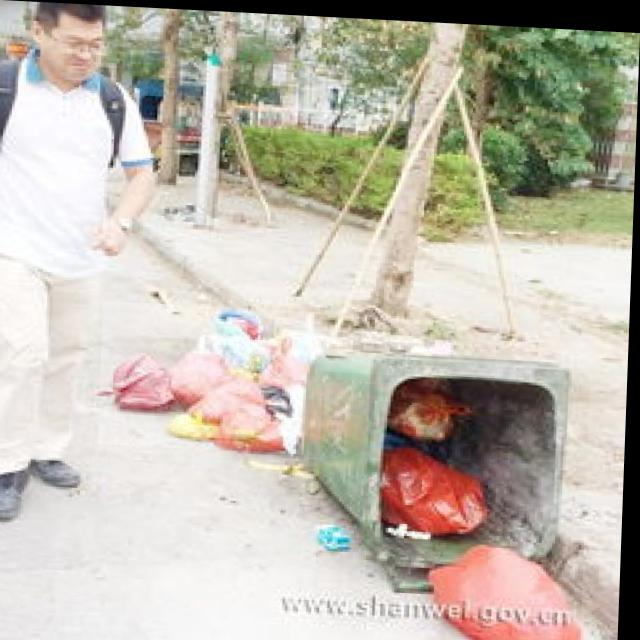garbage: (318, 368, 593, 640), (101, 300, 312, 451)
